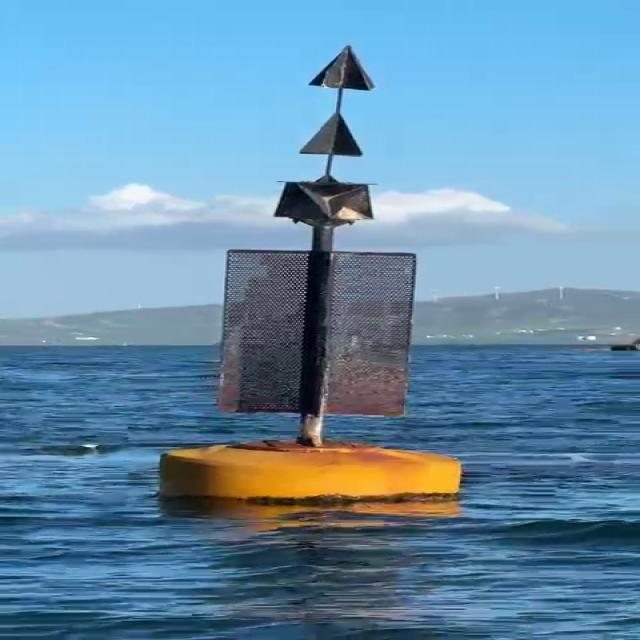marque: (159, 41, 468, 507)
